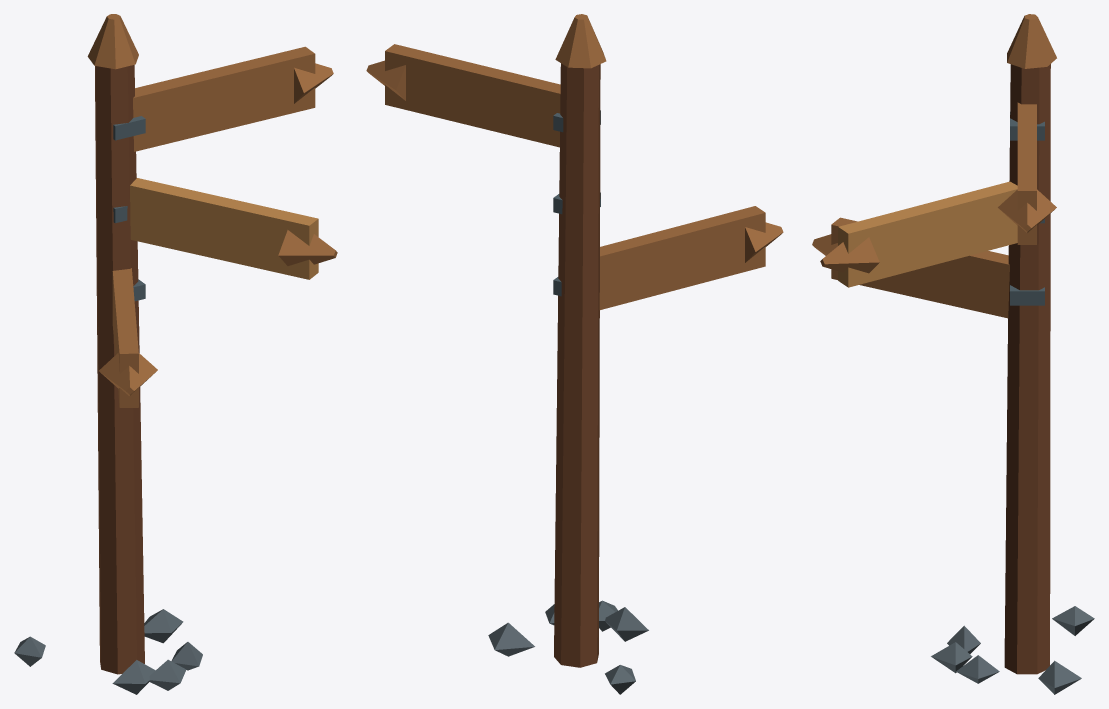
File: signpost.glb
The picture shows the model from 3 angles, left to right: view 1: azimuth 30°, elevation 25°; view 2: azimuth 150°, elevation 25°; view 3: azimuth 270°, elevation 25°; orthographic projection.
Parts seen in each view (by area): view 1: signpost.001; view 2: signpost.001; view 3: signpost.001.
Boxes of the visible parts, x1,y1,x2,y2 form: signpost.001: [14, 14, 337, 694]; signpost.001: [366, 14, 783, 694]; signpost.001: [812, 14, 1094, 694].
Size of the model in its own units: 1.03 by 2.05 by 0.8095.
